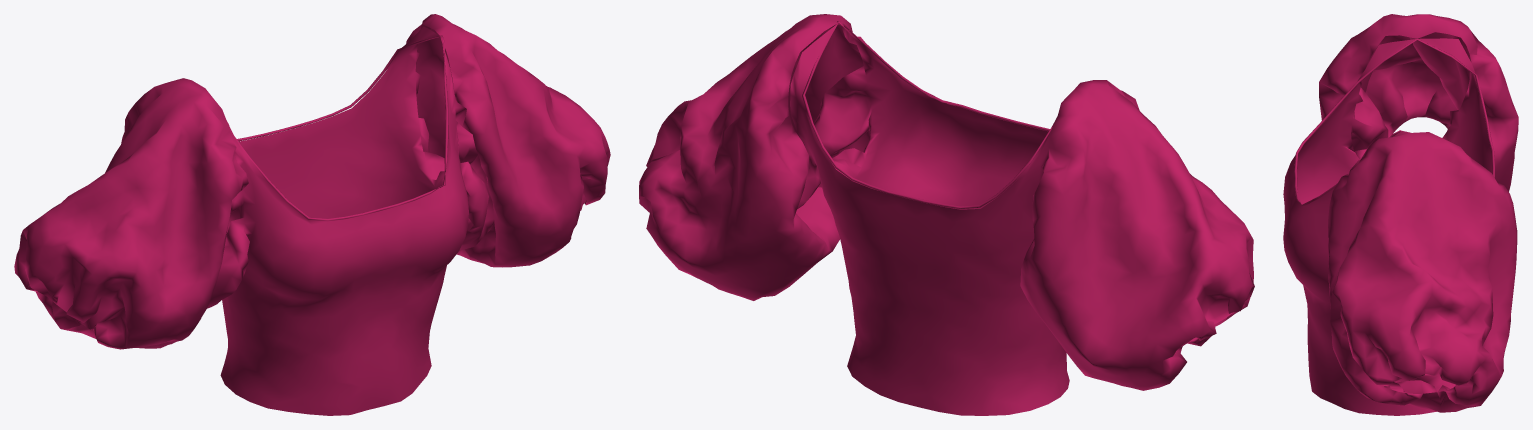
The model's file is fuchsia-puff-top.glb.
3 views of the same model, side by side, from view 1: azimuth 30°, elevation 25°; view 2: azimuth 150°, elevation 25°; view 3: azimuth 270°, elevation 25° (orthographic). The views are drawn at different scales.
Parts seen in each view (by area): view 1: Object_2; view 2: Object_2; view 3: Object_2.
Boxes of the visible parts, x1,y1,x2,y2 form: Object_2: [14, 14, 610, 415]; Object_2: [639, 14, 1254, 415]; Object_2: [1283, 14, 1518, 415].
Bounding box in the file's own units: 71.98 × 38.25 × 26.68.
